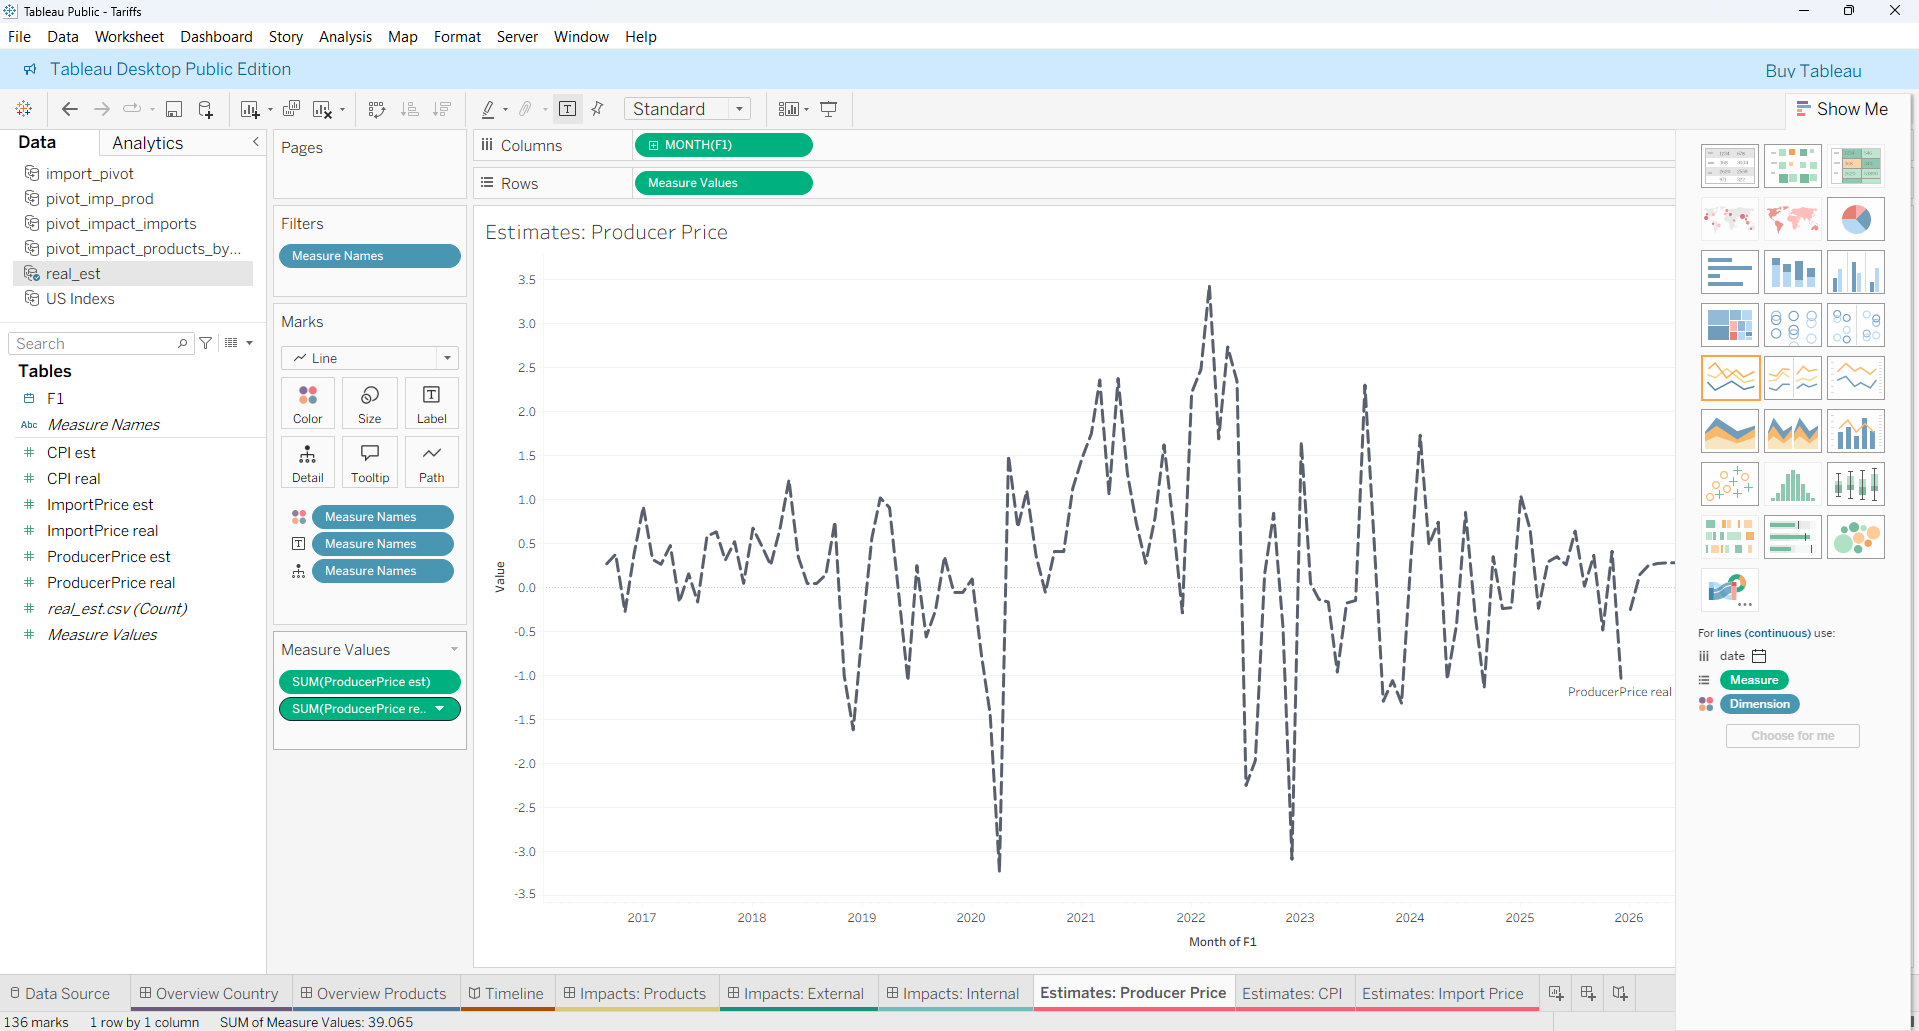

The dashboard page shown, as its layout file describes it:
{"tool":"tableau","page":{"name":"april 9","canvas":[650,860],"ordinal":6},"visuals":[{"type":"image","param":"C:/Users/rcrds/Desktop/Ironhack/Final Project/Images/trumptariffs.jpg","box":[8,8.1,634,843.7]}]}

Visuals, with their boxes on the page's 650x860 design canvas (x1, y1, x2, y2). These are canvas units, not pixel positions in the 1919x1031 screenshot, which may show the page scaled, cropped or inside an application window:
image: [left=8, top=8, right=642, bottom=852]
